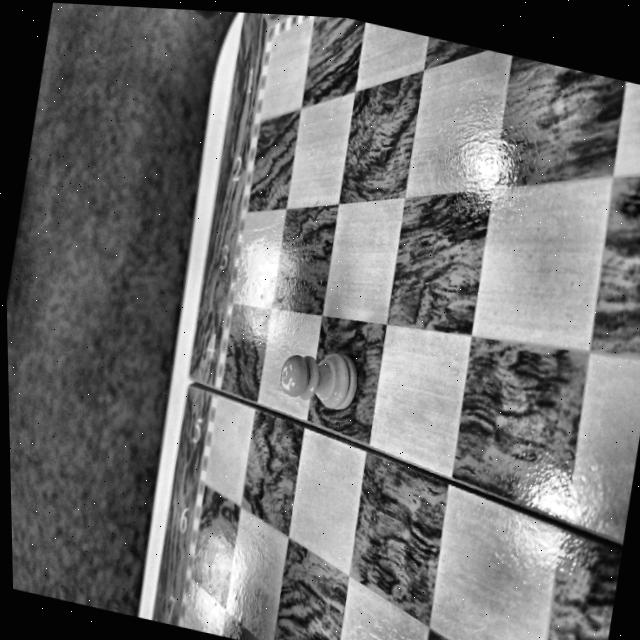white-pawn: (279, 353, 355, 410)
